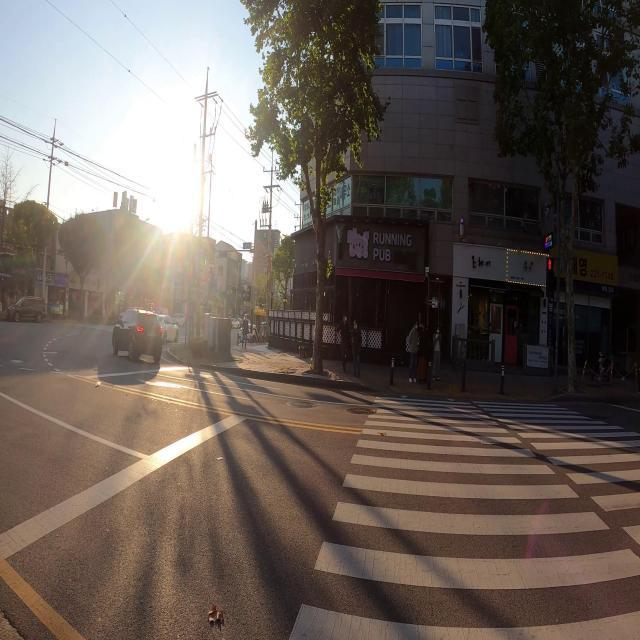crosswalk: (289, 394, 640, 638)
